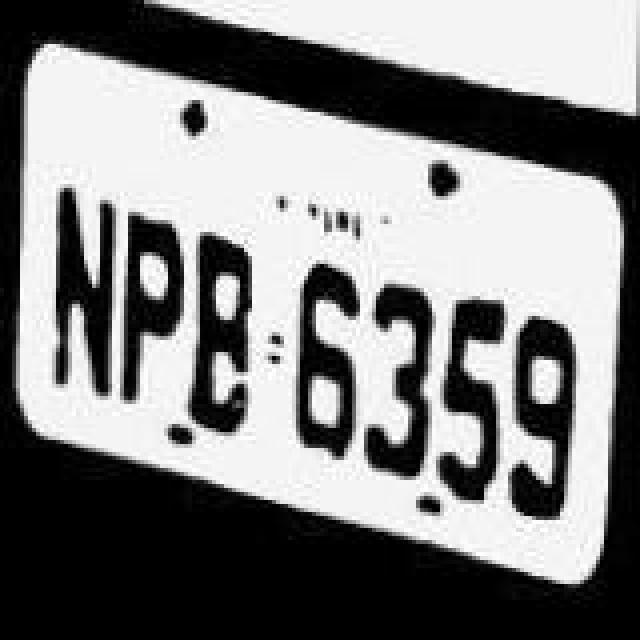3: (366, 256, 442, 488)
5: (438, 268, 514, 504)
6: (290, 248, 366, 480)
9: (500, 246, 580, 542)
B: (182, 222, 258, 446)
N: (46, 170, 122, 418)
P: (120, 202, 192, 418)
